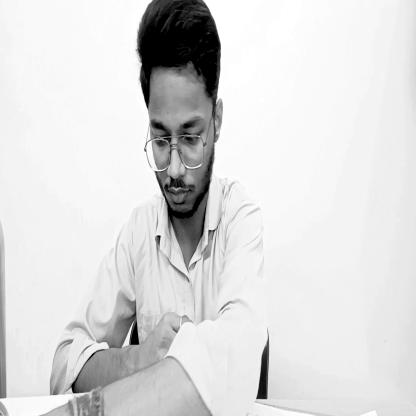Distracted: (137, 0, 223, 226)
